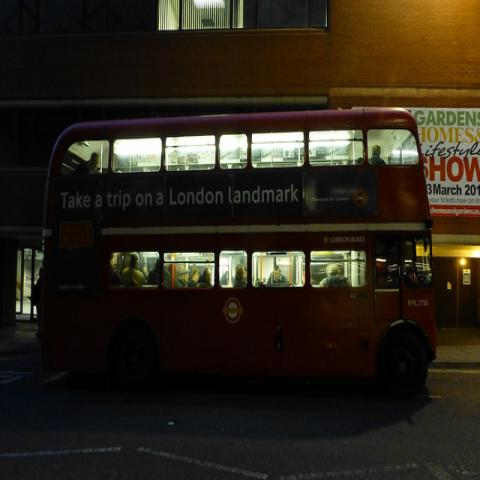bus: (43, 110, 437, 402)
